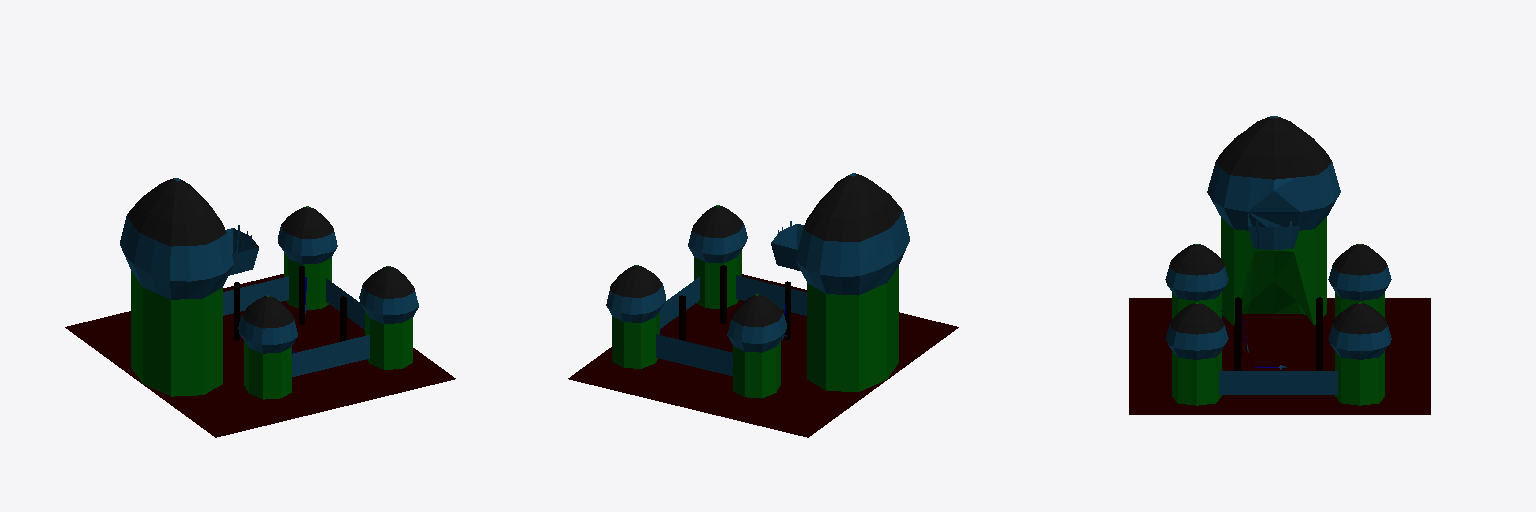
File: SwordsSmith.obj
3 renders of one model, left to right at view 1: azimuth 30°, elevation 25°; view 2: azimuth 150°, elevation 25°; view 3: azimuth 270°, elevation 25°, orthographic.
Visible parts, largest first — view 1: Plane, Cube, Plane.004, Plane.001, Plane.002, Plane.007, Plane.008, Plane.003; view 2: Plane, Cube, Plane.005, Plane.002, Plane.001, Plane.008, Plane.007, Plane.003; view 3: Plane, Cube, Plane.002, Plane.001, Plane.004, Plane.005, Plane.003.
Boxes of the visible parts, <box> form: Plane: <box>120,178,258,396</box>; Cube: <box>65,274,455,437</box>; Plane.004: <box>238,295,297,399</box>; Plane.001: <box>359,266,418,369</box>; Plane.002: <box>278,206,337,309</box>; Plane.007: <box>292,335,369,376</box>; Plane.008: <box>223,276,288,315</box>; Plane.003: <box>326,278,364,329</box>; Plane: <box>771,173,909,391</box>; Cube: <box>568,274,958,437</box>; Plane.005: <box>727,294,786,398</box>; Plane.002: <box>606,265,665,368</box>; Plane.001: <box>688,205,747,308</box>; Plane.008: <box>656,334,732,375</box>; Plane.007: <box>736,275,806,315</box>; Plane.003: <box>660,277,699,328</box>; Plane: <box>1207,116,1340,325</box>; Cube: <box>1129,298,1430,414</box>; Plane.002: <box>1328,303,1391,405</box>; Plane.001: <box>1165,303,1228,405</box>; Plane.004: <box>1165,244,1228,318</box>; Plane.005: <box>1328,244,1391,317</box>; Plane.003: <box>1219,371,1337,394</box>.
Size of the model in its own units: 5.71 by 4.32 by 5.98.